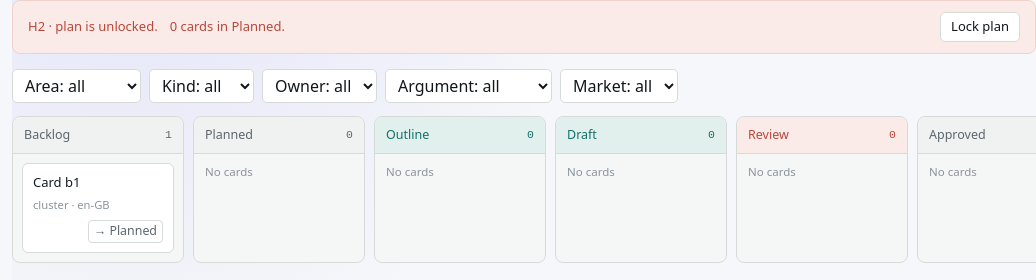
V3 Content Hub plan board › moves Backlog → Planned with the card's revision and reloads
Expected: the element with test id "column-backlog" is shown, [12,116,184,263]
Click the button with aria-label "Move Card b1 to Planned". click: (125, 231)
box: [88,220,163,243]
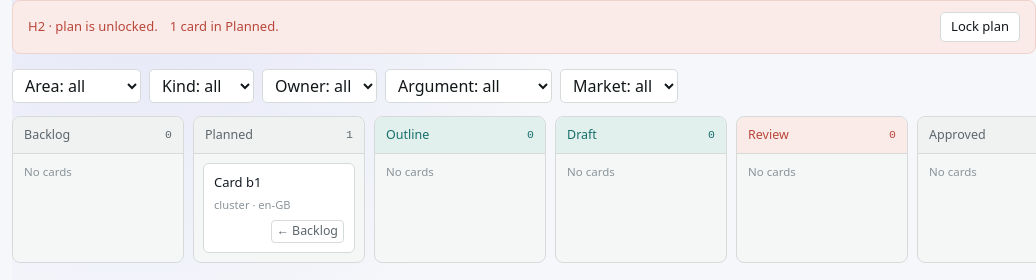
Result: the text with test id "count-planned" reads "1" at [346,128,353,141]
